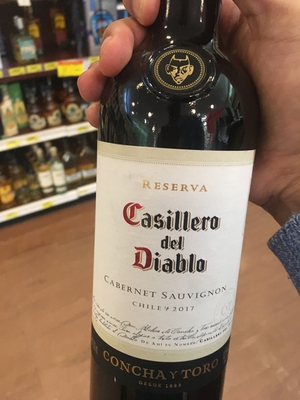casillero del diablo cabernet sauvignon: (89, 1, 259, 400)
